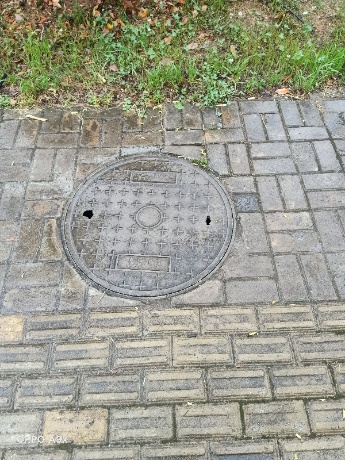good: (61, 154, 235, 298)
